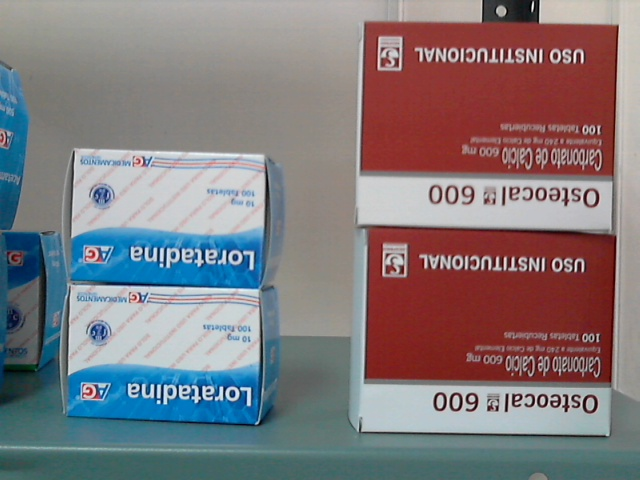AG: (69, 284, 259, 426), (72, 149, 262, 288)
